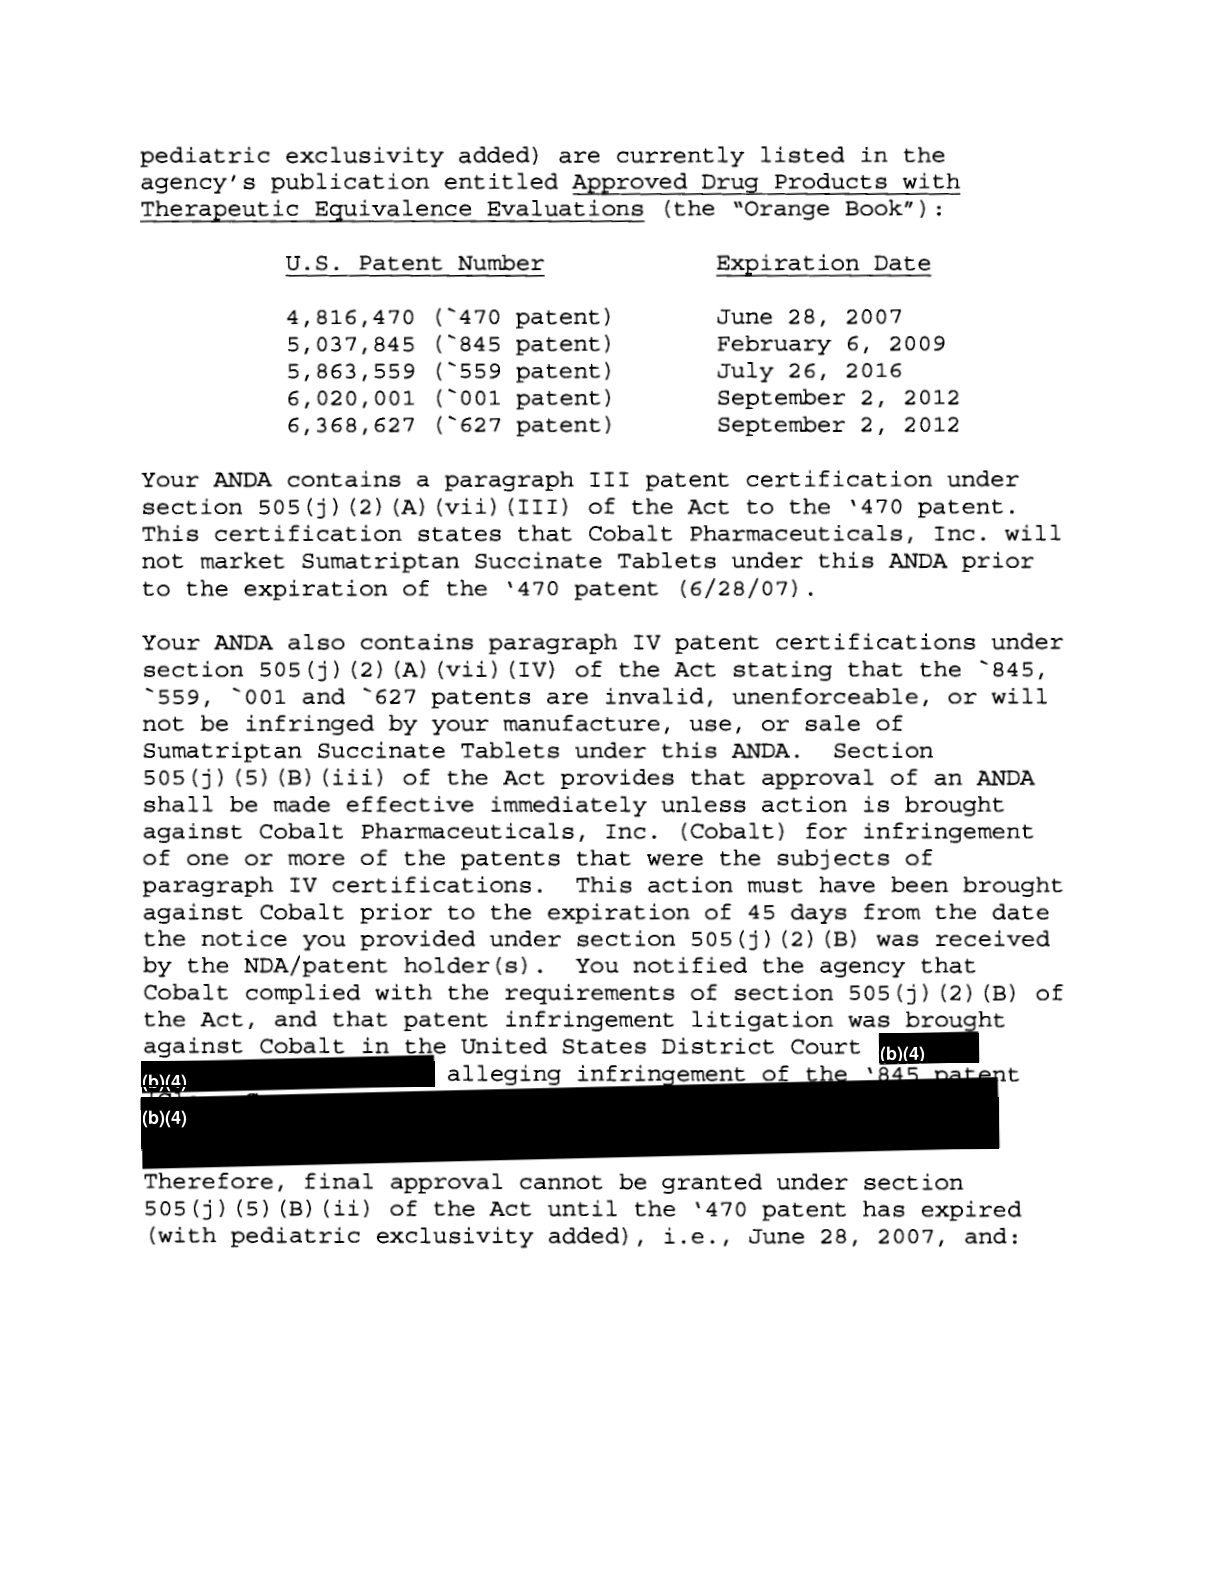nolines: (284, 249, 964, 436)
